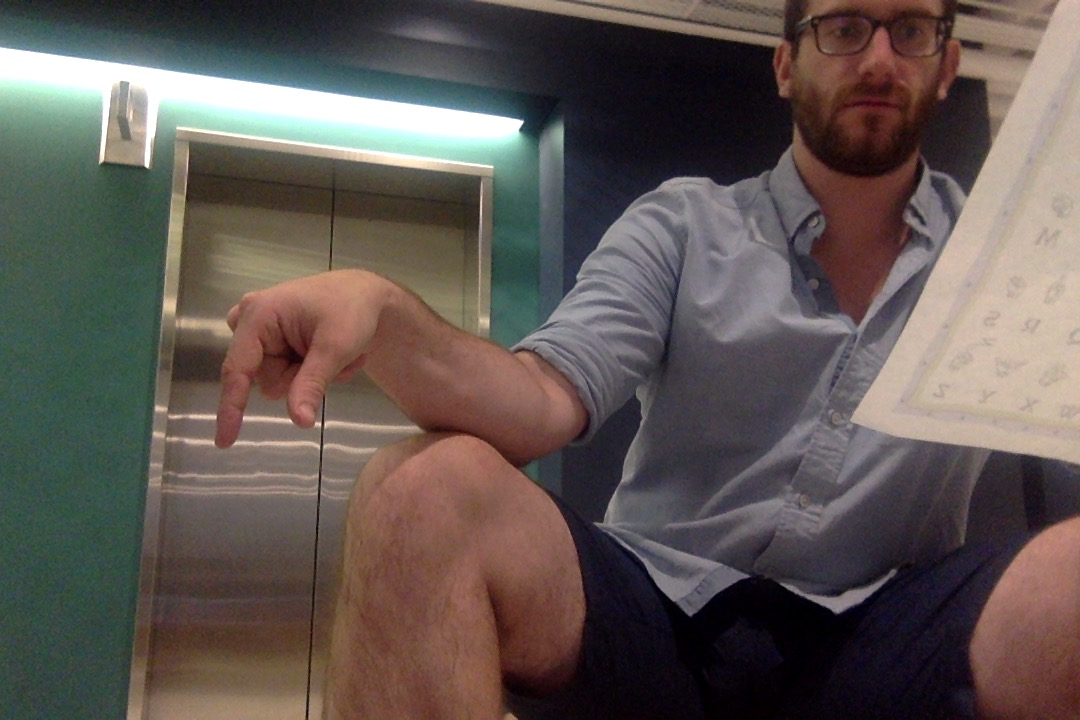q: (208, 263, 377, 453)
